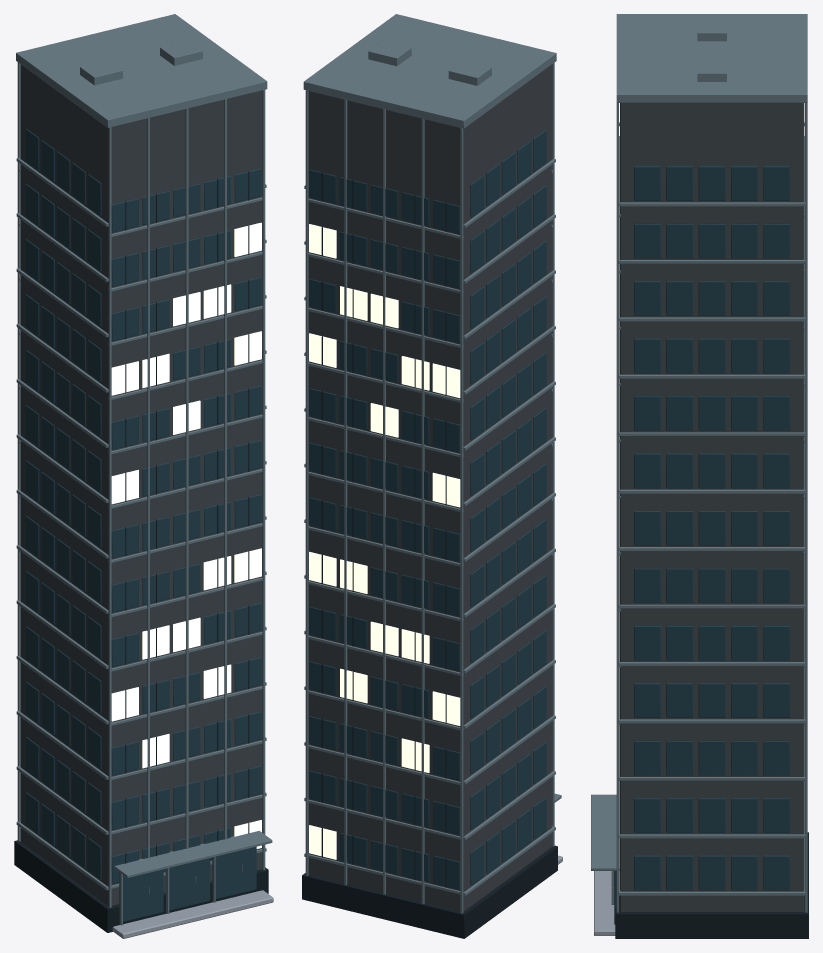
Rendered from office_facade.glb.
3 views of the same model, side by side, from view 1: azimuth 30°, elevation 25°; view 2: azimuth 150°, elevation 25°; view 3: azimuth 270°, elevation 25° (orthographic). The views are drawn at different scales.
Parts seen in each view (by area): view 1: Detail.office_facade.Concrete, Detail.office_facade.Glass, Detail.office_facade.Metal, Detail.office_facade.Light, Detail.office_facade.Dark, Detail.office_facade.Stone; view 2: Detail.office_facade.Concrete, Detail.office_facade.Glass, Detail.office_facade.Metal, Detail.office_facade.Light, Detail.office_facade.Dark; view 3: Detail.office_facade.Concrete, Detail.office_facade.Glass, Detail.office_facade.Metal, Detail.office_facade.Dark, Detail.office_facade.Stone.
Boxes of the visible parts, <box> form: Detail.office_facade.Concrete: <box>20,64,262,905</box>; Detail.office_facade.Glass: <box>25,128,261,921</box>; Detail.office_facade.Metal: <box>16,14,272,925</box>; Detail.office_facade.Light: <box>111,222,261,848</box>; Detail.office_facade.Dark: <box>14,171,268,932</box>; Detail.office_facade.Stone: <box>112,890,273,938</box>; Detail.office_facade.Concrete: <box>308,65,551,911</box>; Detail.office_facade.Glass: <box>309,129,546,889</box>; Detail.office_facade.Metal: <box>303,14,561,913</box>; Detail.office_facade.Light: <box>309,224,460,859</box>; Detail.office_facade.Dark: <box>302,172,557,938</box>; Detail.office_facade.Concrete: <box>620,103,804,911</box>; Detail.office_facade.Glass: <box>614,166,790,924</box>; Detail.office_facade.Metal: <box>591,14,807,912</box>; Detail.office_facade.Dark: <box>615,832,808,938</box>; Detail.office_facade.Stone: <box>594,871,615,935</box>.
Bounding box in the file's own units: 8.4 × 40.8 × 9.45.
